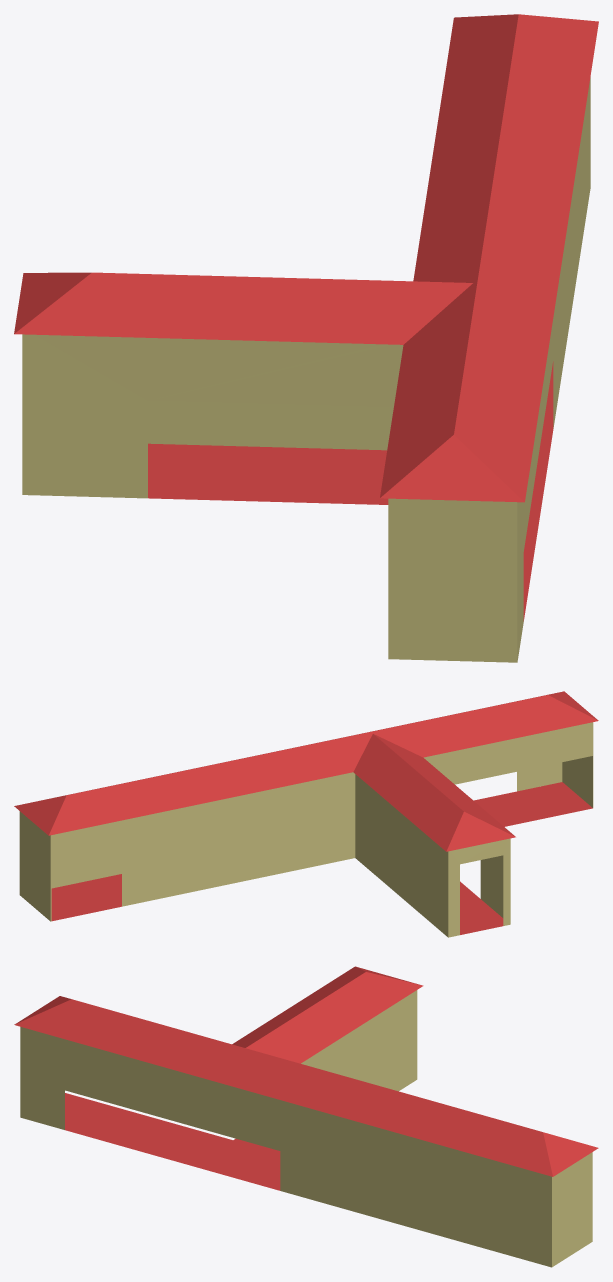
3 views of the same model, one above another, from view 1: azimuth 30°, elevation 25°; view 2: azimuth 150°, elevation 25°; view 3: azimuth 270°, elevation 25° (orthographic). The views are drawn at different scales.
Parts seen in each view (by area): view 1: group_3, group_10, group_5, group_7, group_11, group_4, group_6, group_9; view 2: group_5, group_3, group_10, group_7, group_6, group_4, group_11; view 3: group_5, group_3, group_6, group_7, group_10, group_4.
Part boxes in pixels (x1,y1,x2,y2): group_3: (380,14,598,502); group_10: (22,334,403,498); group_5: (388,77,590,662); group_7: (14,272,472,344); group_11: (148,443,388,504); group_4: (380,17,598,501); group_6: (523,361,553,621); group_9: (14,273,409,344); group_5: (19,722,593,921); group_3: (14,691,598,835); group_10: (357,776,510,937); group_7: (353,734,515,851); group_6: (51,782,592,921); group_4: (15,692,592,835); group_11: (460,881,503,934); group_5: (20,1027,592,1267); group_3: (14,996,598,1176); group_6: (65,1093,280,1190); group_7: (232,966,422,1063); group_10: (301,990,417,1091); group_4: (17,1002,595,1176).
Size of the model in its own units: 82.48 by 96.82 by 20.7.
